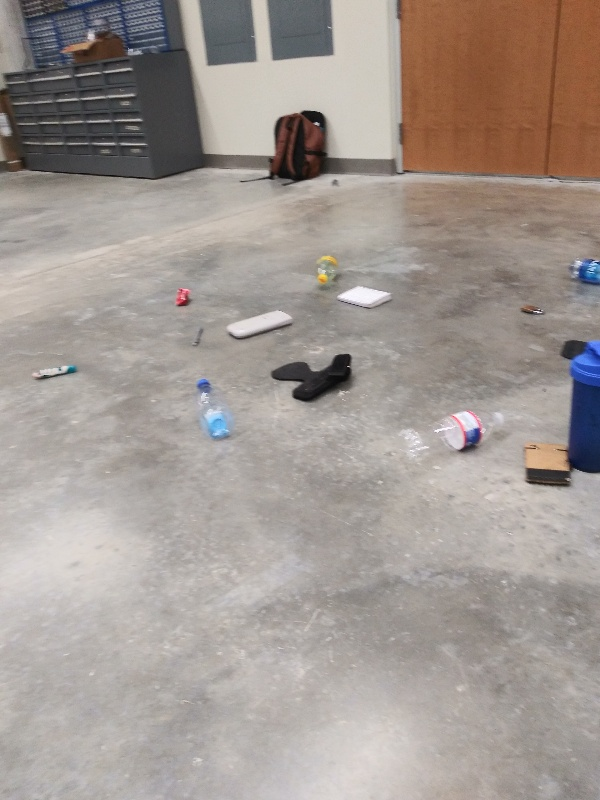bottle: (392, 406, 511, 466), (189, 377, 234, 444), (563, 252, 600, 292), (310, 249, 340, 289)
